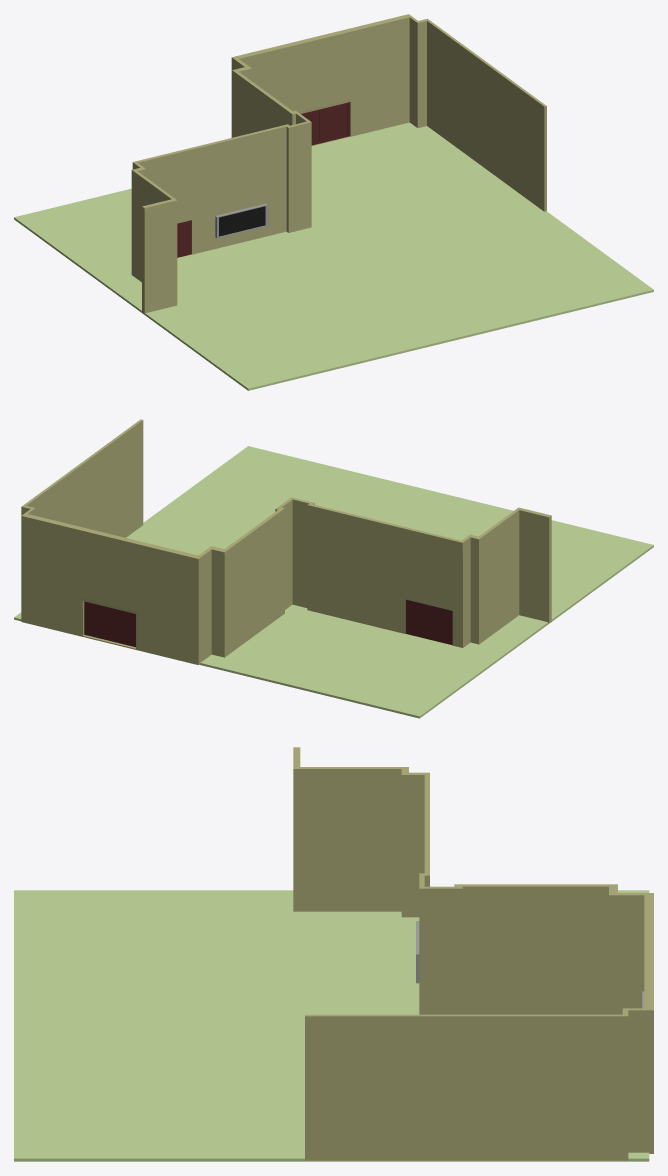
File: mo_office.glb
The picture shows the model from 3 angles, top to bottom: view 1: azimuth 30°, elevation 25°; view 2: azimuth 150°, elevation 25°; view 3: azimuth 270°, elevation 25°; orthographic projection. The views are drawn at different scales.
Visible parts, largest first — view 1: Floor-col.002, Walls-col, Door-col.001, Blackboard; view 2: Walls-col, Floor-col.002, Door-col.001, Door-col; view 3: Walls-col, Floor-col.002.
Part boxes in pixels (left/top/right/bottom): Floor-col.002: left=14, top=122, right=653, bottom=390; Walls-col: left=131, top=14, right=546, bottom=314; Door-col.001: left=301, top=102, right=350, bottom=145; Blackboard: left=215, top=203, right=267, bottom=238; Walls-col: left=21, top=419, right=551, bottom=664; Floor-col.002: left=14, top=446, right=653, bottom=718; Door-col.001: left=84, top=601, right=135, bottom=647; Door-col: left=405, top=599, right=452, bottom=645; Walls-col: left=293, top=747, right=653, bottom=1160; Floor-col.002: left=14, top=890, right=649, bottom=1161.
Bounding box in the file's own units: 20.04 × 5.05 × 20.15.
1 material, 1 textured.
